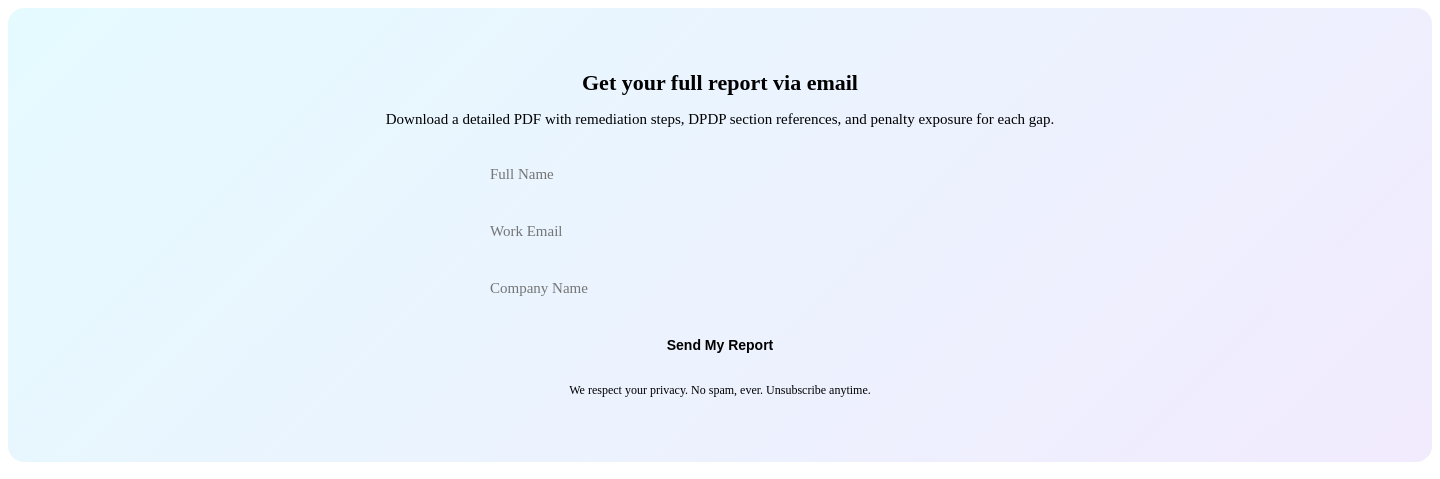
LeadCaptureForm › submits the lead to the Worker API, downloads the report, and shows a confirmation
Type "Asha Rao" into the field labelled "Full Name".
click(720, 174); type("Asha Rao")  # box [470, 152, 970, 197]
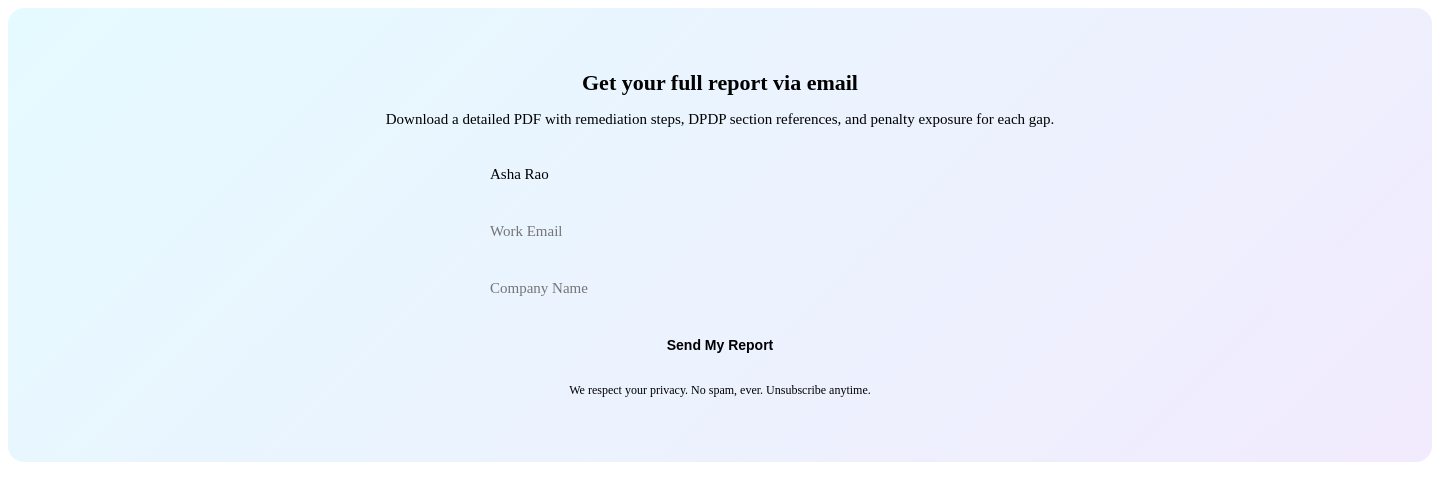
Type "asha@acme.in" into the field labelled "Work Email".
click(720, 232); type("asha@acme.in")  # box [470, 209, 970, 254]
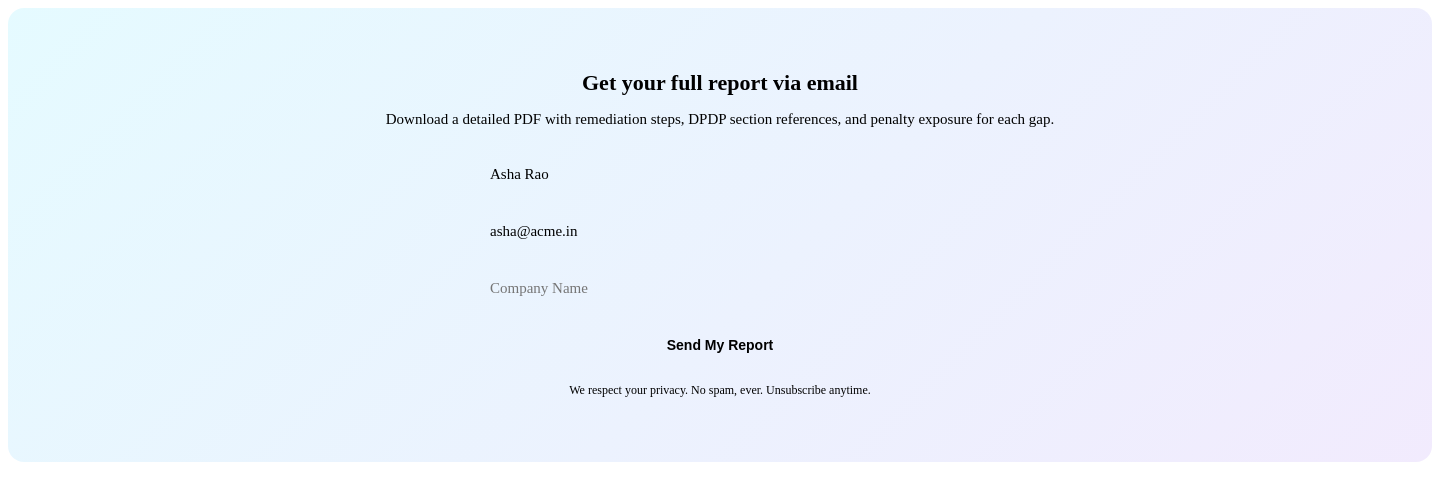
Type "Acme Fintech" into the field labelled "Company Name".
click(720, 288); type("Acme Fintech")  # box [470, 266, 970, 311]
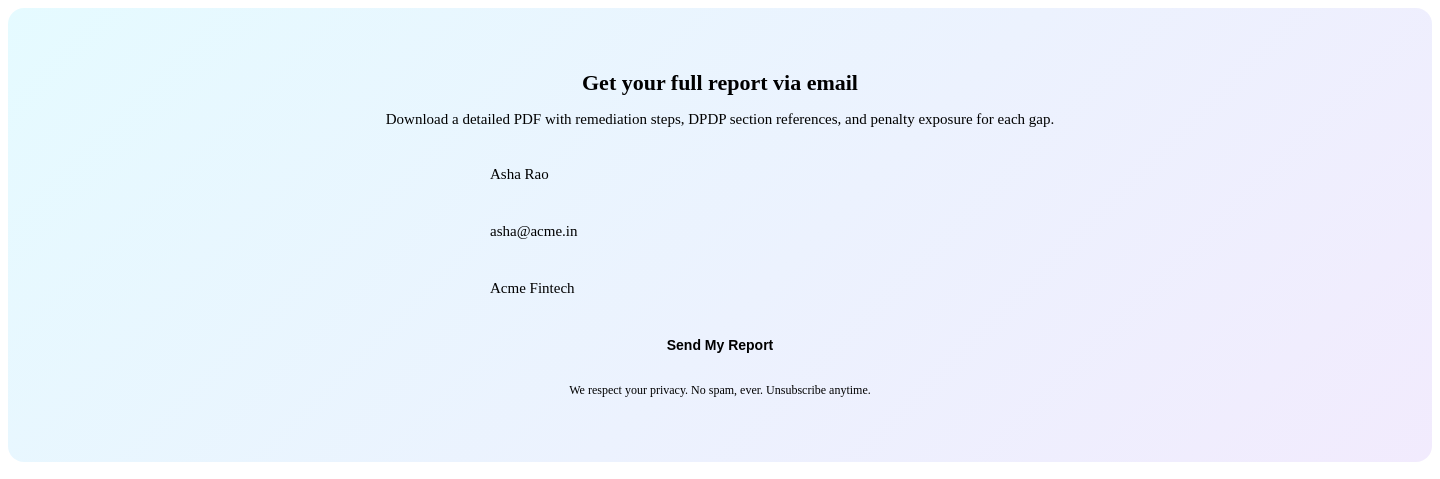
Click the button "Send My Report".
click(720, 345)  # box [639, 323, 801, 367]
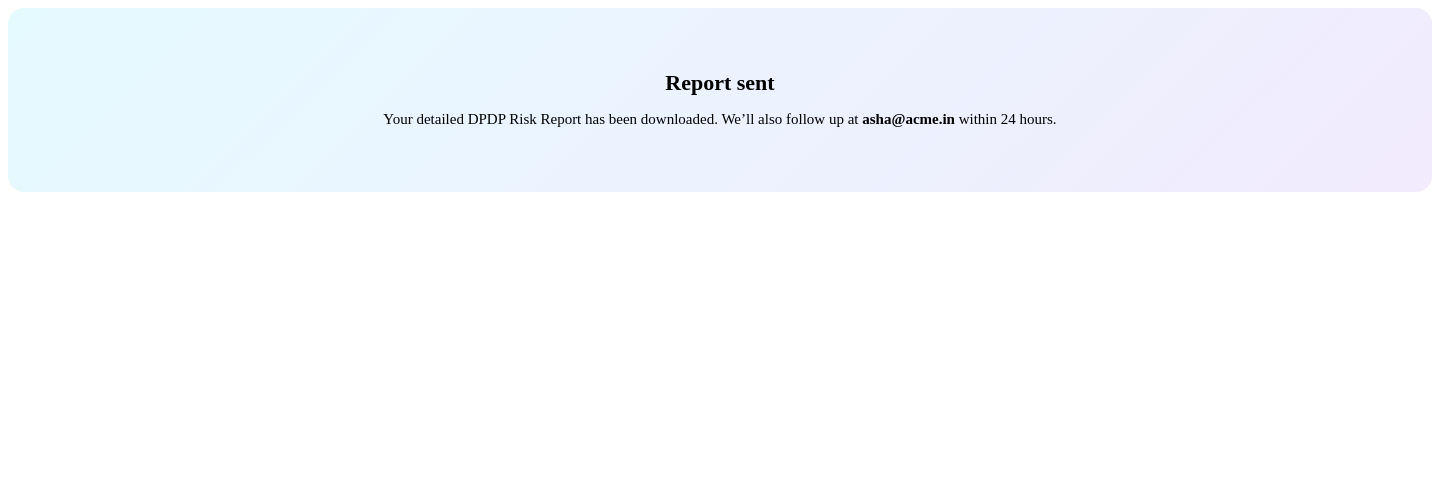
Check: the heading "Report sent" is shown, box [665, 70, 775, 95]
Check: the text "asha@acme.in" is shown, box [862, 111, 955, 127]
